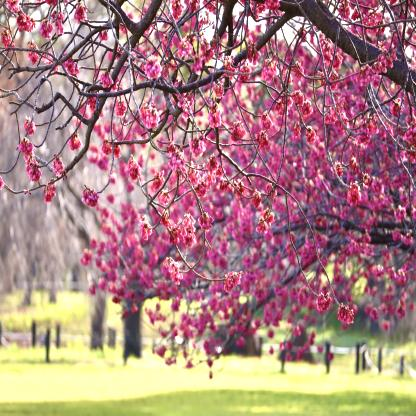KanhiSakura: (0, 0, 415, 382)
